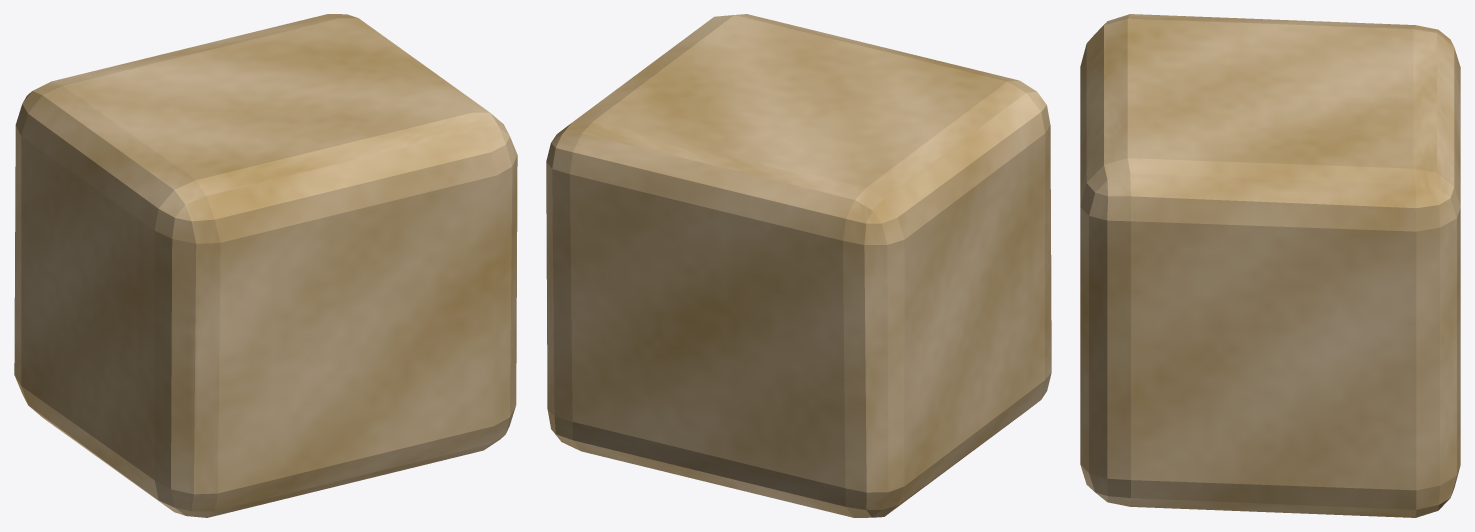
File: sandstone-stage-a.glb
3 views of the same model, side by side, from view 1: azimuth 30°, elevation 25°; view 2: azimuth 150°, elevation 25°; view 3: azimuth 270°, elevation 25° (orthographic). The views are drawn at different scales.
Visible parts, largest first — view 1: Environment_Sandstone sample.001; view 2: Environment_Sandstone sample.001; view 3: Environment_Sandstone sample.001.
Part boxes in pixels (box(x1,y1,x2,y2)): Environment_Sandstone sample.001: box(14, 14, 517, 517); Environment_Sandstone sample.001: box(546, 14, 1051, 517); Environment_Sandstone sample.001: box(1080, 14, 1460, 517).
Size of the model in its own units: 0.7701 by 0.6959 by 0.68.
1 material, 1 textured.
